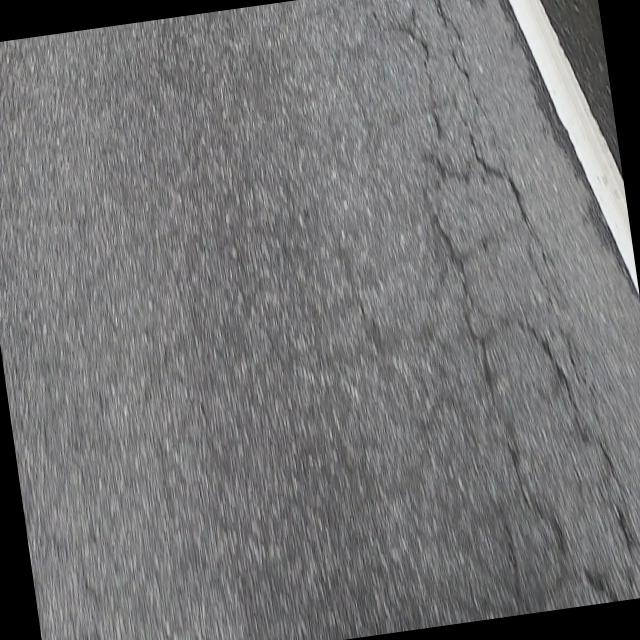Retak-Buaya: (408, 0, 640, 602)
